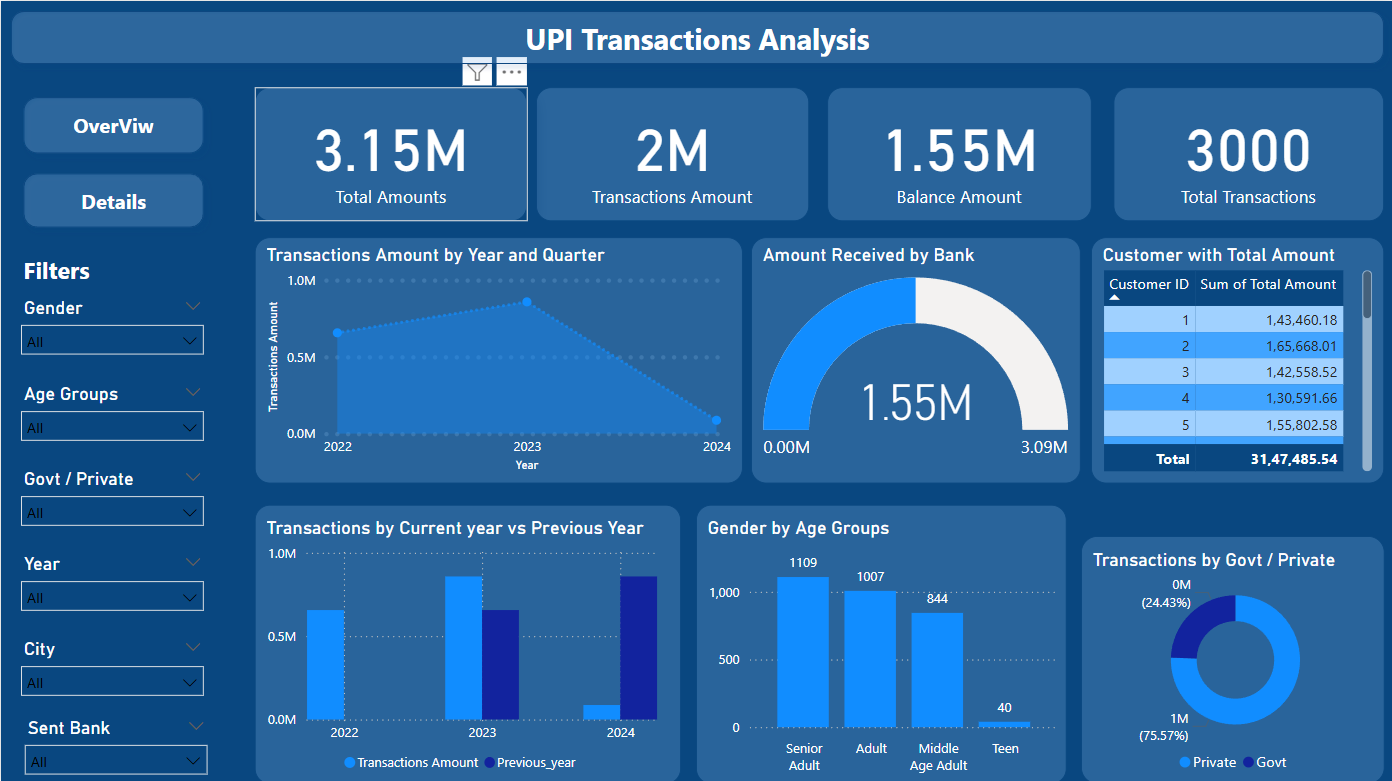

Layout of this report page (visuals, bound fields, positions):
{"tool":"powerbi","page":{"name":"Overview","canvas":[1280,720],"ordinal":0},"visuals":[{"type":"clusteredColumnChart","title":"Transactions by Current year vs Previous Year","fields":{"Category":["UPI Data.Date (dd/mm/yyyy).Variation.Date Hierarchy.Year"],"Y":["Measures (3).Total Transactions Amount","Measures (3).Previous_year"]},"box":[233.7,462.8,391.9,257],"z":0},{"type":"columnChart","title":" Gender by Age Groups","fields":{"Category":["UPI Data.Age Groups"],"Y":["CountNonNull(UPI Data.Gender)"]},"box":[639.5,462.8,340.7,257],"z":1000},{"type":"donutChart","title":"Transactions by Govt / Private","fields":{"Category":["UPI Data.Govt / Private"],"Y":["Measures (3).Total Transactions Amount"]},"box":[992.7,491.8,279.3,228.4],"z":2000},{"type":"card","fields":{"Values":["Measures (3).Total Transactions"]},"box":[491.9,79.1,251.2,123.3],"z":3000},{"type":"card","fields":{"Values":["Measures (3).Total Balance"]},"box":[759.3,79.1,243,123.3],"z":4000},{"type":"card","fields":{"Values":["Measures (3).Count of Transactions"]},"box":[1023.3,79.1,248.8,123.3],"z":5000},{"type":"card","fields":{"Values":["Measures (3).Total Amounts"]},"box":[233.7,79.1,250,123.3],"z":6000},{"type":"stackedAreaChart","title":"Transactions Amount by Year and Quarter","fields":{"Category":["UPI Data.Date (dd/mm/yyyy).Variation.Date Hierarchy.Year","UPI Data.Date (dd/mm/yyyy).Variation.Date Hierarchy.Quarter","UPI Data.Date (dd/mm/yyyy).Variation.Date Hierarchy.Month","UPI Data.Date (dd/mm/yyyy).Variation.Date Hierarchy.Day"],"Y":["Measures (3).Total Transactions Amount"]},"box":[233.7,217.4,448.8,226.7],"z":7000},{"type":"shape","box":[0,0,1280.8,67],"z":8000},{"type":"slicer","fields":{"Values":["UPI Data.Date (dd/mm/yyyy).Variation.Date Hierarchy.Year"]},"box":[7.8,502,188.4,67.4],"z":9000},{"type":"slicer","fields":{"Values":["UPI Data.Gender"]},"box":[7.8,267.2,188.4,67.4],"z":10000},{"type":"slicer","fields":{"Values":["UPI Data.Govt / Private"]},"box":[7.8,424.1,188.4,67.4],"z":11000},{"type":"slicer","fields":{"Values":["UPI Data.City"]},"box":[7.8,580,188.4,67.4],"z":12000},{"type":"slicer","fields":{"Values":["UPI Data.Age Groups"]},"box":[7.8,346.2,188.4,68.6],"z":13000},{"type":"gauge","title":"Amount Received by Bank","fields":{"Y":["Sum(UPI Data.Balance (thousands))"]},"box":[689.5,217.4,303.5,226.7],"z":14000},{"type":"tableEx","title":"Customer with Total Amount","fields":{"Values":["UPI Data.Customer ID","Sum(UPI Data.Total Amount)"]},"box":[1002.3,217.4,269.8,226.7],"z":15000},{"type":"shape","title":"Filter","box":[7.8,228,86,39],"z":16000},{"type":"shape","box":[11,79,184,70],"z":17000},{"type":"shape","box":[11,149,184,68],"z":18000},{"type":"slicer","fields":{"Values":["UPI Data.Sent Bank"]},"box":[11,653,188,67],"z":19000}]}

Visuals, with their boxes in screenshot pixels (x1, y1, x2, y2), scaled from the page's 1280x720 canvas onto the 1392x781 screenshot:
"Transactions by Current year vs Previous Year" clusteredColumnChart: bbox(254, 502, 680, 780)
" Gender by Age Groups" columnChart: bbox(695, 502, 1066, 780)
"Transactions by Govt / Private" donutChart: bbox(1080, 533, 1383, 780)
card - Measures (3).Total Transactions: bbox(535, 86, 808, 220)
card - Measures (3).Total Balance: bbox(826, 86, 1090, 220)
card - Measures (3).Count of Transactions: bbox(1113, 86, 1383, 220)
card - Measures (3).Total Amounts: bbox(254, 86, 526, 220)
"Transactions Amount by Year and Quarter" stackedAreaChart: bbox(254, 236, 742, 482)
shape: bbox(0, 0, 1391, 73)
slicer - UPI Data.Date (dd/mm/yyyy).Variation.Date Hierarchy.Year: bbox(8, 545, 213, 618)
slicer - UPI Data.Gender: bbox(8, 290, 213, 363)
slicer - UPI Data.Govt / Private: bbox(8, 460, 213, 533)
slicer - UPI Data.City: bbox(8, 629, 213, 702)
slicer - UPI Data.Age Groups: bbox(8, 376, 213, 450)
"Amount Received by Bank" gauge: bbox(750, 236, 1080, 482)
"Customer with Total Amount" tableEx: bbox(1090, 236, 1383, 482)
"Filter" shape: bbox(8, 247, 102, 290)
shape: bbox(12, 86, 212, 162)
shape: bbox(12, 162, 212, 235)
slicer - UPI Data.Sent Bank: bbox(12, 708, 216, 780)
